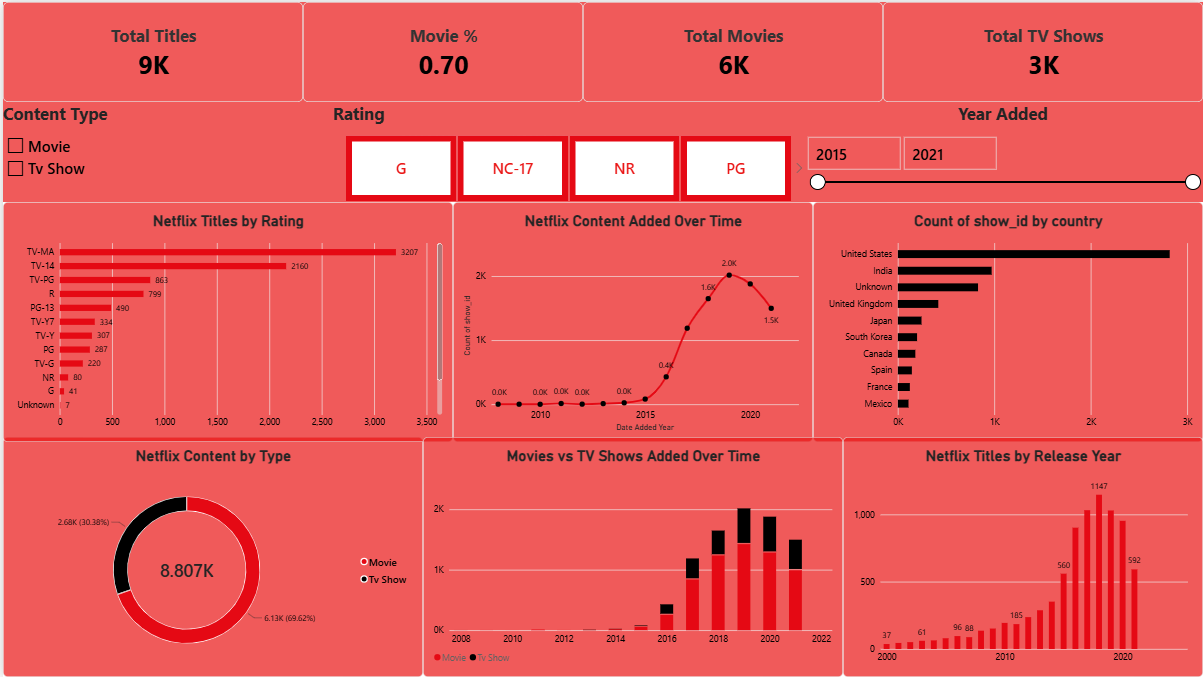

What the dashboard file says about the page in this screenshot:
{"tool":"powerbi","page":{"name":"Page 1","canvas":[1920,1080],"ordinal":0},"visuals":[{"type":"cardVisual","fields":{"Data":["netflix_titles_CLEANED.Total Titles"]},"box":[0,0,480,160],"z":0},{"type":"cardVisual","fields":{"Data":["netflix_titles_CLEANED.Total Movies"]},"box":[928,0,480,160],"z":1000},{"type":"cardVisual","fields":{"Data":["netflix_titles_CLEANED.Total TV Shows"]},"box":[1408,0,512,160],"z":2000},{"type":"cardVisual","fields":{"Data":["netflix_titles_CLEANED.Movie %"]},"box":[480,0,448,160],"z":3000},{"type":"donutChart","title":"Netflix Content by Type","fields":{"Category":["netflix_titles_CLEANED.type"],"Y":["Count(netflix_titles_CLEANED.show_id)"]},"box":[0,696,672,384],"z":4000},{"type":"lineChart","title":"Netflix Content Added Over Time","fields":{"Category":["netflix_titles_CLEANED.Date Added Year"],"Y":["Count(netflix_titles_CLEANED.show_id)"]},"box":[720,320,576,384],"z":5000},{"type":"clusteredBarChart","fields":{"Category":["netflix_titles_CLEANED.country"],"Y":["Count(netflix_titles_CLEANED.show_id)"]},"box":[1296,320,624,384],"z":6000},{"type":"clusteredBarChart","title":"Netflix Titles by Rating","fields":{"Category":["netflix_titles_CLEANED.rating"],"Y":["Count(netflix_titles_CLEANED.show_id)"]},"box":[0,320,720,384],"z":7000},{"type":"columnChart","title":"Netflix Titles by Release Year","fields":{"Category":["netflix_titles_CLEANED.release_year"],"Y":["Count(netflix_titles_CLEANED.show_id)"]},"box":[1344,696,576,384],"z":8000},{"type":"columnChart","title":"Movies vs TV Shows Added Over Time","fields":{"Category":["netflix_titles_CLEANED.Date Added Year"],"Series":["netflix_titles_CLEANED.type"],"Y":["Count(netflix_titles_CLEANED.show_id)"]},"box":[672,696,672,384],"z":9000},{"type":"slicer","title":"Content Type","fields":{"Values":["netflix_titles_CLEANED.type"]},"box":[0,160,528,160],"z":10000},{"type":"slicer","title":"Rating","fields":{"Values":["netflix_titles_CLEANED.rating"]},"box":[528,160,752,160],"z":11000},{"type":"slicer","title":"Year Added","fields":{"Values":["netflix_titles_CLEANED.Date Added Year"]},"box":[1280,160,640,160],"z":12000}]}

Visuals, with their boxes in screenshot pixels (x1, y1, x2, y2), scaled from the page's 1920x1080 canvas onto the 1203x677 screenshot:
cardVisual - netflix_titles_CLEANED.Total Titles: detection(0, 0, 301, 100)
cardVisual - netflix_titles_CLEANED.Total Movies: detection(581, 0, 882, 100)
cardVisual - netflix_titles_CLEANED.Total TV Shows: detection(882, 0, 1202, 100)
cardVisual - netflix_titles_CLEANED.Movie %: detection(301, 0, 581, 100)
"Netflix Content by Type" donutChart: detection(0, 436, 421, 676)
"Netflix Content Added Over Time" lineChart: detection(451, 201, 812, 441)
clusteredBarChart - netflix_titles_CLEANED.country x Count(netflix_titles_CLEANED.show_id): detection(812, 201, 1202, 441)
"Netflix Titles by Rating" clusteredBarChart: detection(0, 201, 451, 441)
"Netflix Titles by Release Year" columnChart: detection(842, 436, 1202, 676)
"Movies vs TV Shows Added Over Time" columnChart: detection(421, 436, 842, 676)
"Content Type" slicer: detection(0, 100, 331, 201)
"Rating" slicer: detection(331, 100, 802, 201)
"Year Added" slicer: detection(802, 100, 1202, 201)
